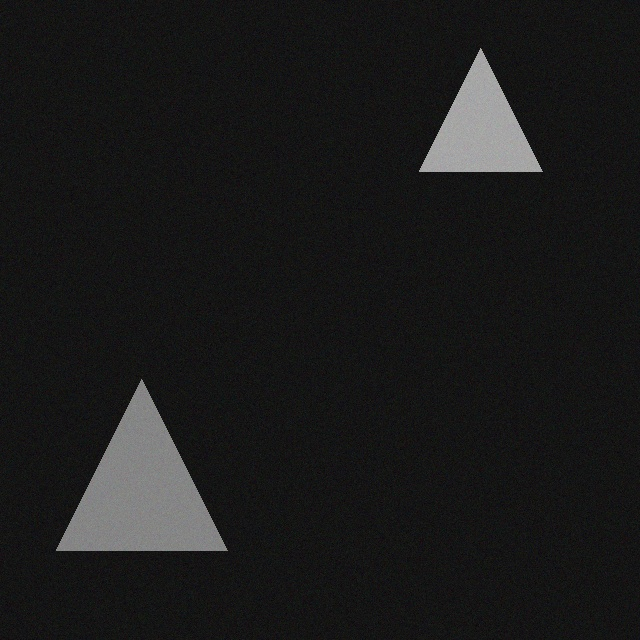triangle: (60, 377, 231, 548), (423, 46, 546, 169)
